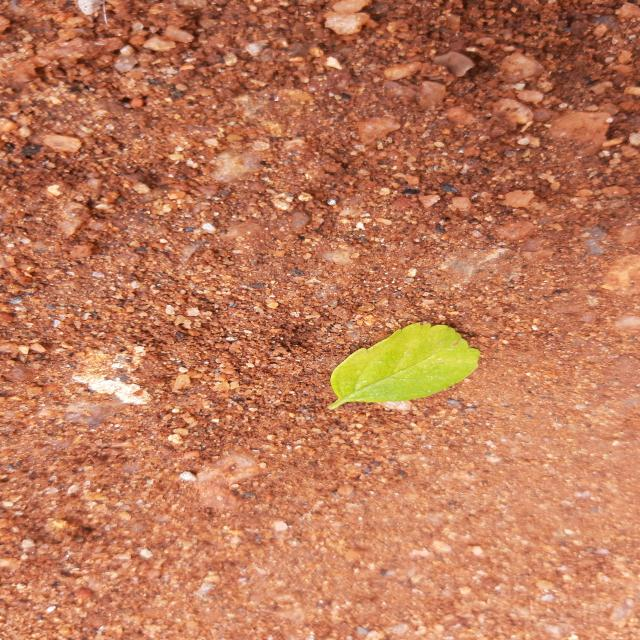tecoma: (329, 324, 480, 409)
